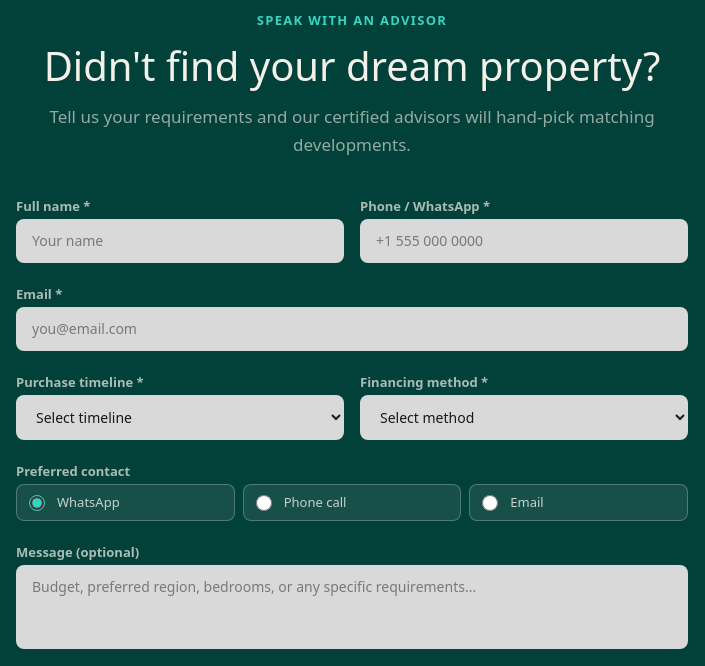
it: PropertyInquiryForm › allows switching contact method
Click the radio button labelled "Email".
click(490, 503)  # box x1=482 y1=495 x2=498 y2=511
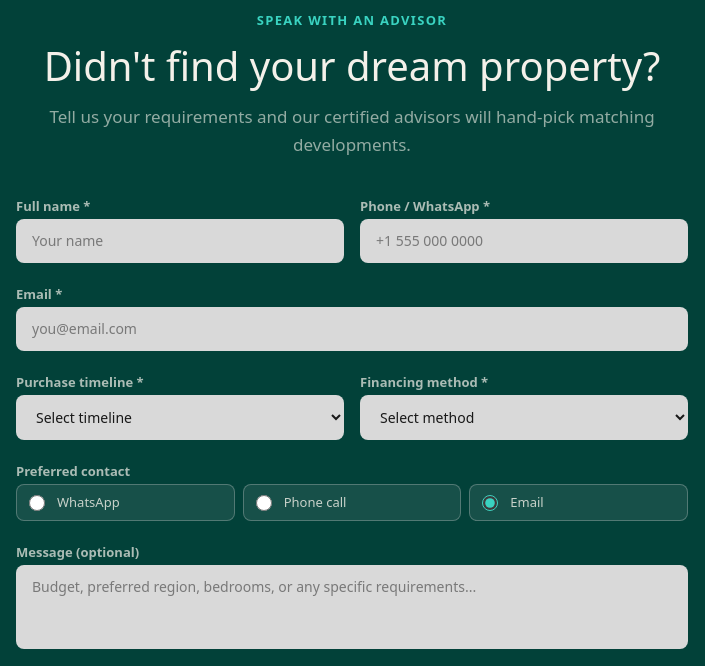
Now the radio button labelled "Email" is checked, box x1=482 y1=495 x2=498 y2=511
Now the radio button labelled "WhatsApp" is not checked, box x1=29 y1=495 x2=45 y2=511
